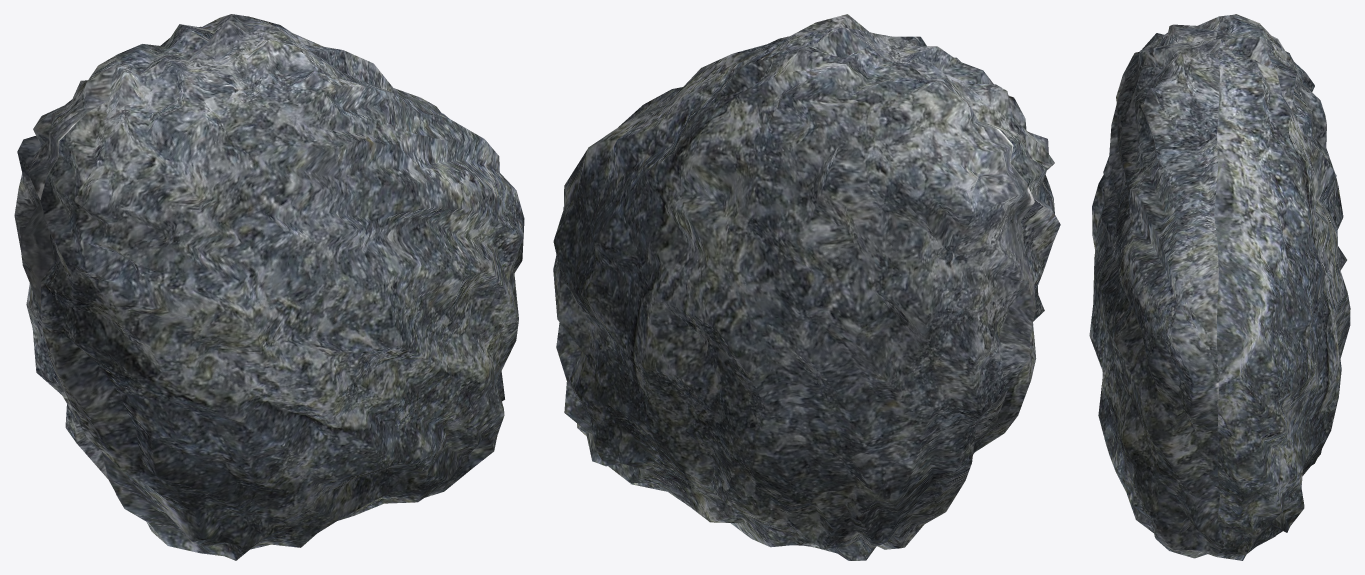
The model's file is Periodotite updated.fbx.
The picture shows the model from 3 angles, left to right: view 1: azimuth 30°, elevation 25°; view 2: azimuth 150°, elevation 25°; view 3: azimuth 270°, elevation 25°; orthographic projection. The views are drawn at different scales.
Parts seen in each view (by area): view 1: Peridotite; view 2: Peridotite; view 3: Peridotite.
Boxes of the visible parts, x1=… form: Peridotite: x1=14, y1=14, x2=524, y2=560; Peridotite: x1=553, y1=14, x2=1060, y2=560; Peridotite: x1=1089, y1=14, x2=1350, y2=560.
Bounding box in the file's own units: 380 × 399 × 205.
